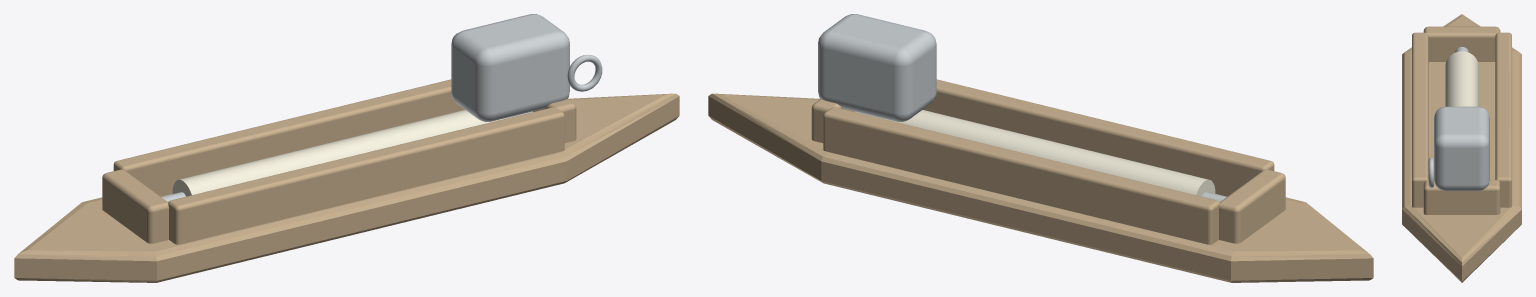
The model's file is textile-weaving-and-dye-workshop-end-feed-shuttle-0de140f6__29540.glb.
3 views of the same model, side by side, from view 1: azimuth 30°, elevation 25°; view 2: azimuth 150°, elevation 25°; view 3: azimuth 270°, elevation 25° (orthographic). The views are drawn at different scales.
Visible parts, largest first — view 1: end-feed-shuttle; view 2: end-feed-shuttle; view 3: end-feed-shuttle.
Boxes of the visible parts, <box> form: end-feed-shuttle: <box>14,14,679,282</box>; end-feed-shuttle: <box>708,14,1373,282</box>; end-feed-shuttle: <box>1402,14,1521,282</box>.
Size of the model in its own units: 0.427 by 0.08 by 0.086.
